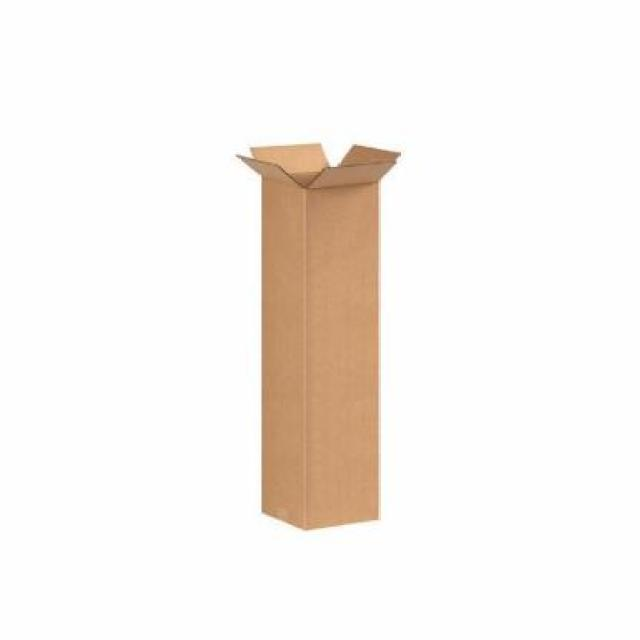box: (227, 118, 418, 543)
